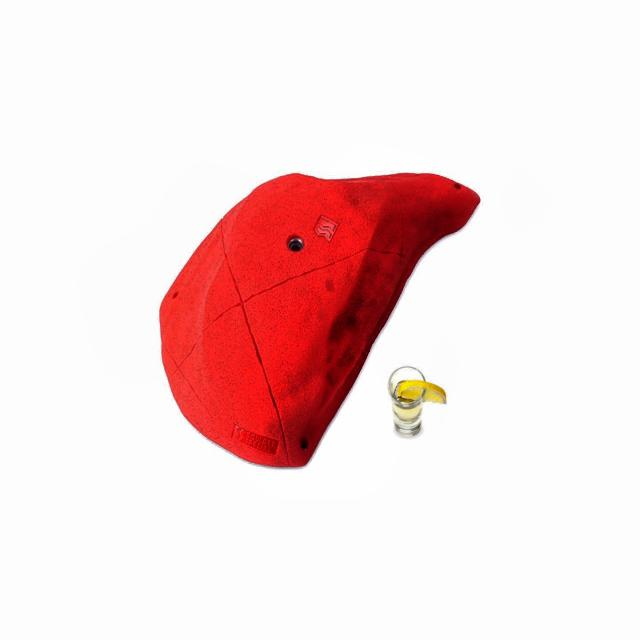Hold: (134, 138, 508, 483)
